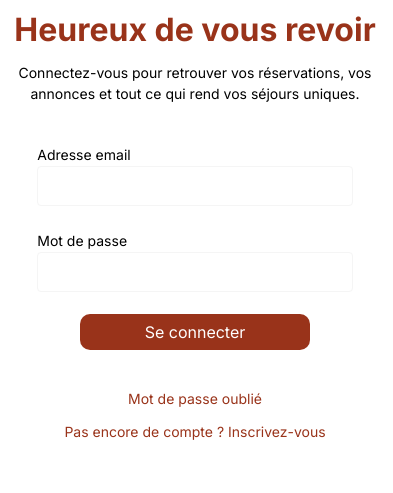
connexion › soulève des erreurs si les champs sont vides et place les inputs en aria-invalid
The image size is (393, 493).
Click the button "Se connecter".
click(195, 332)  # box [80,314,310,350]
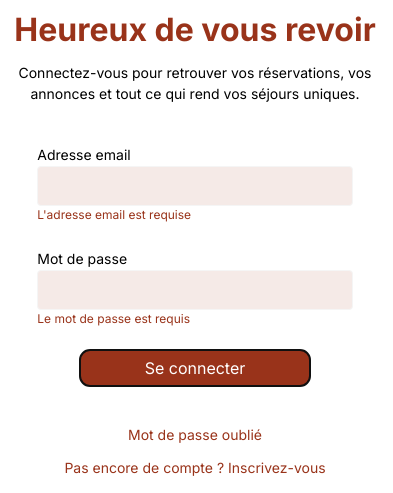
Now the text "L'adresse email est requise" is shown, box [37,207,191,222]
Now the text "Le mot de passe est requis" is shown, box [37,311,190,326]
